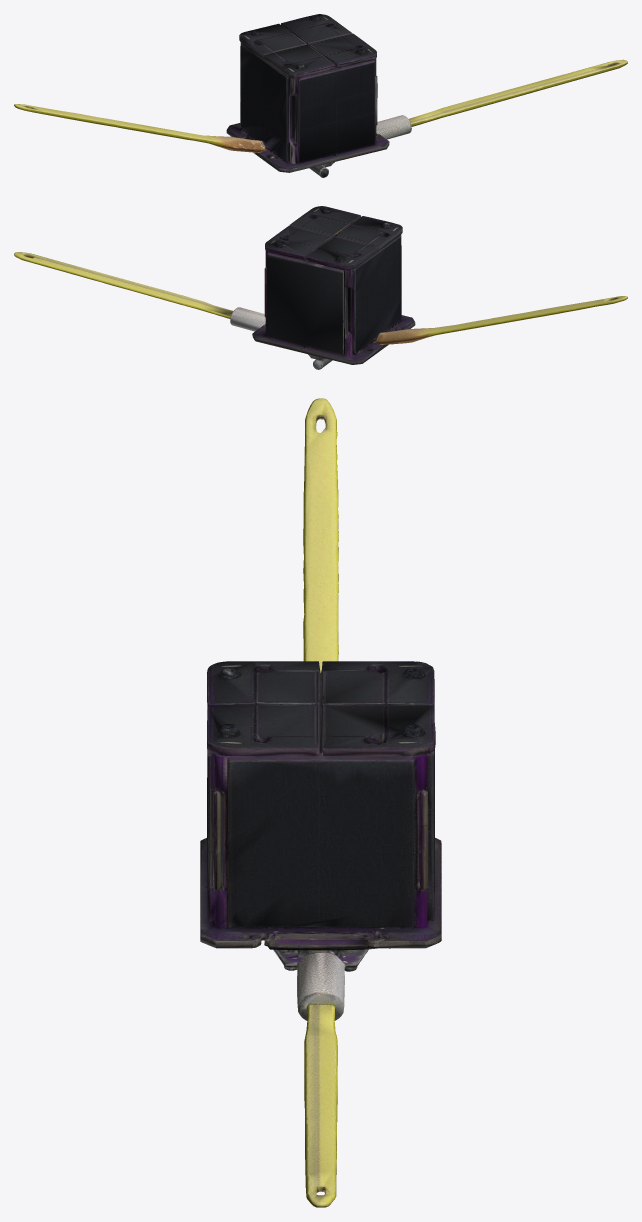
Rendered from cubesat.glb.
3 views of the same model, one above another, from view 1: azimuth 30°, elevation 25°; view 2: azimuth 150°, elevation 25°; view 3: azimuth 270°, elevation 25° (orthographic). The views are drawn at different scales.
Visible parts, largest first — view 1: Meshy_AI_Tiny_Satellite_on_the_0901201309_texture; view 2: Meshy_AI_Tiny_Satellite_on_the_0901201309_texture; view 3: Meshy_AI_Tiny_Satellite_on_the_0901201309_texture.
Part boxes in pixels (x1=…): Meshy_AI_Tiny_Satellite_on_the_0901201309_texture: x1=14, y1=14, x2=627, y2=177; Meshy_AI_Tiny_Satellite_on_the_0901201309_texture: x1=14, y1=206, x2=627, y2=369; Meshy_AI_Tiny_Satellite_on_the_0901201309_texture: x1=200, y1=398, x2=441, y2=1207.
Bounding box in the file's own units: 1.9 × 0.368 × 0.3245.
1 material, 1 textured.
